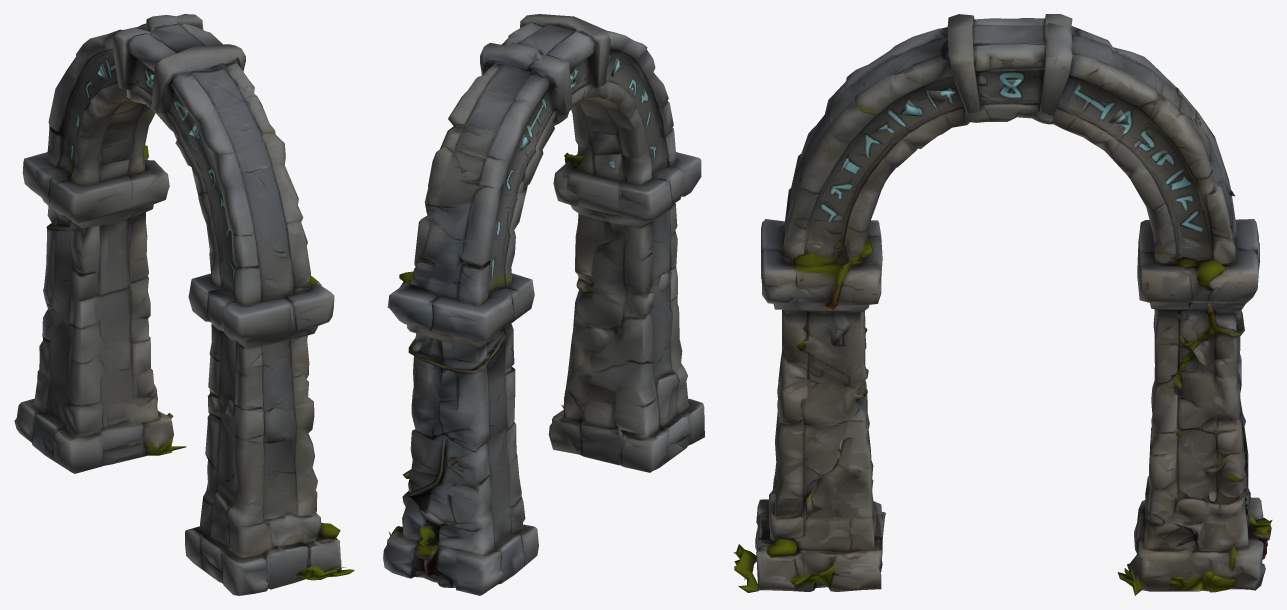
The picture shows the model from 3 angles, left to right: view 1: azimuth 30°, elevation 25°; view 2: azimuth 150°, elevation 25°; view 3: azimuth 270°, elevation 25°; orthographic projection. The views are drawn at different scales.
Parts seen in each view (by area): view 1: tripo_node_7025c346-8015-421f-ab1b-c11a0073a64d; view 2: tripo_node_7025c346-8015-421f-ab1b-c11a0073a64d; view 3: tripo_node_7025c346-8015-421f-ab1b-c11a0073a64d.
Boxes of the visible parts, x1,y1,x2,y2 form: tripo_node_7025c346-8015-421f-ab1b-c11a0073a64d: (14, 14, 354, 595); tripo_node_7025c346-8015-421f-ab1b-c11a0073a64d: (383, 14, 704, 595); tripo_node_7025c346-8015-421f-ab1b-c11a0073a64d: (733, 14, 1272, 595).
Bounding box in the file's own units: 0.272 × 1 × 0.9119.
Materials: 1 (1 with a texture image).
